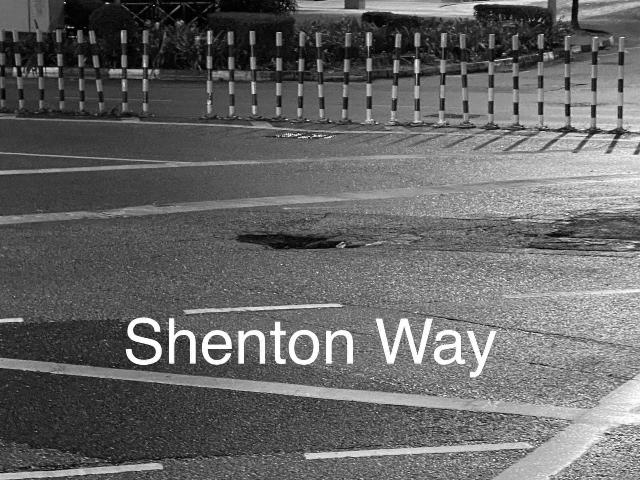Pothole: (236, 232, 364, 250)
